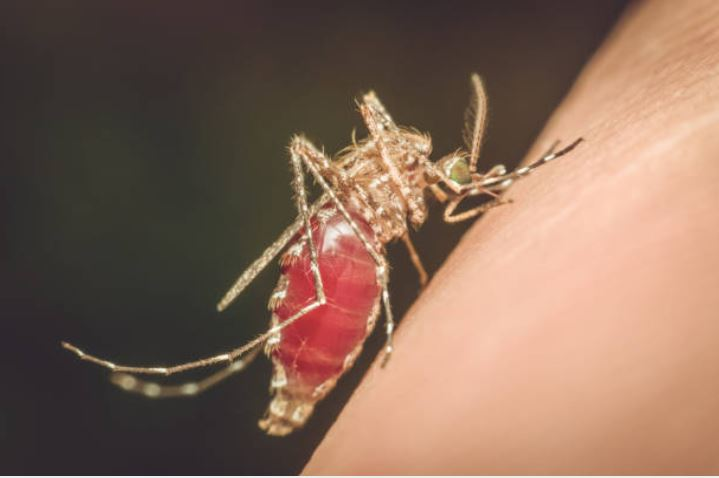dengue_mosquito: (218, 74, 585, 437)
